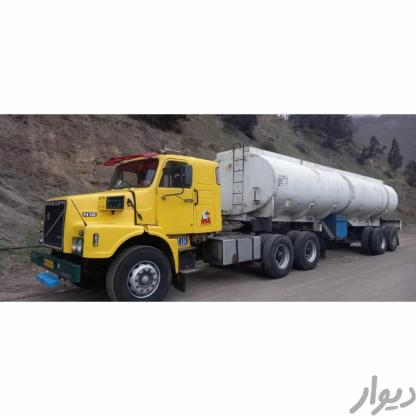Truck: (31, 150, 414, 316)
